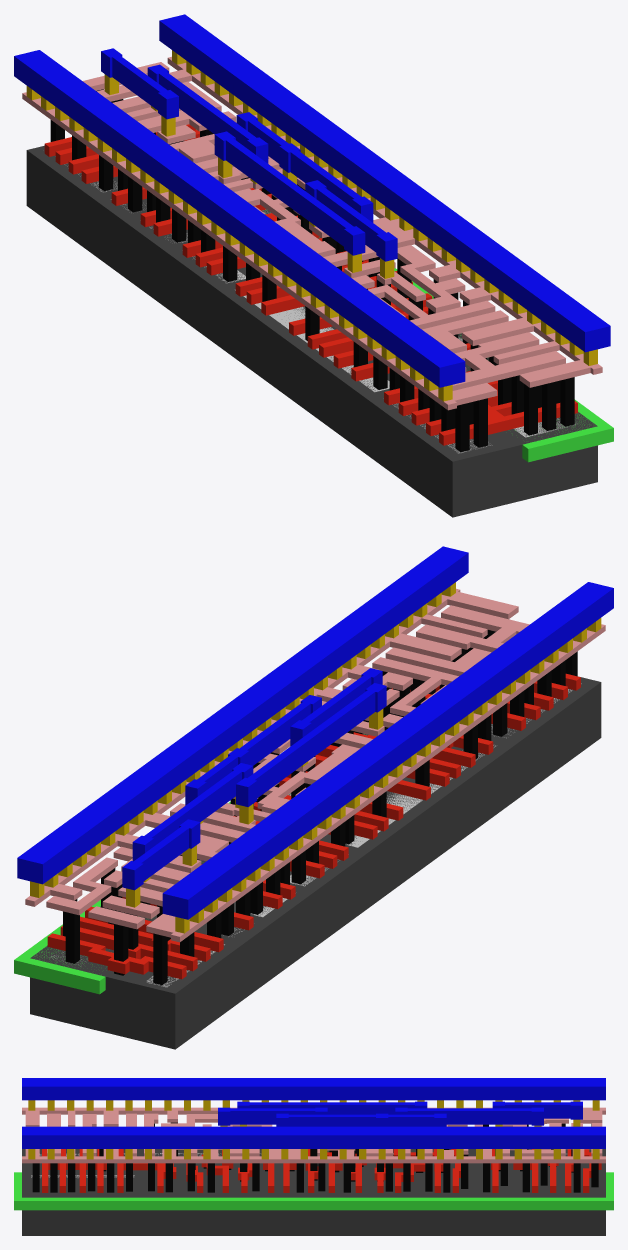
The model's file is sky130_fd_sc_hd__sdfstp_4.obj.
3 views of the same model, one above another, from view 1: azimuth 30°, elevation 25°; view 2: azimuth 150°, elevation 25°; view 3: azimuth 270°, elevation 25° (orthographic). The views are drawn at different scales.
Visible parts, largest first — view 1: metal1, subs, li, licon, poly, mcon, nwell, diff; view 2: metal1, subs, li, poly, licon, mcon, nwell, diff; view 3: metal1, subs, li, nwell, poly, licon, mcon.
Boxes of the visible parts, left/top/right/bottom form: metal1: left=14, top=14, right=610, bottom=387; subs: left=26, top=145, right=597, bottom=517; li: left=22, top=56, right=602, bottom=410; licon: left=50, top=89, right=574, bottom=451; poly: left=44, top=124, right=577, bottom=445; mcon: left=26, top=50, right=597, bottom=401; nwell: left=196, top=129, right=613, bottom=462; diff: left=64, top=164, right=492, bottom=453; metal1: left=17, top=546, right=613, bottom=919; subs: left=30, top=676, right=601, bottom=1049; li: left=25, top=588, right=605, bottom=942; poly: left=47, top=673, right=580, bottom=979; licon: left=63, top=630, right=577, bottom=984; mcon: left=30, top=582, right=601, bottom=933; nwell: left=14, top=734, right=364, bottom=994; diff: left=147, top=683, right=581, bottom=987; metal1: left=22, top=1078, right=605, bottom=1148; subs: left=22, top=1149, right=605, bottom=1235; li: left=22, top=1107, right=605, bottom=1163; nwell: left=14, top=1172, right=613, bottom=1210; poly: left=42, top=1149, right=601, bottom=1192; licon: left=32, top=1122, right=598, bottom=1192; mcon: left=28, top=1100, right=599, bottom=1159.
Bounding box in the file's own units: 3.2 × 2.74 × 14.18.
